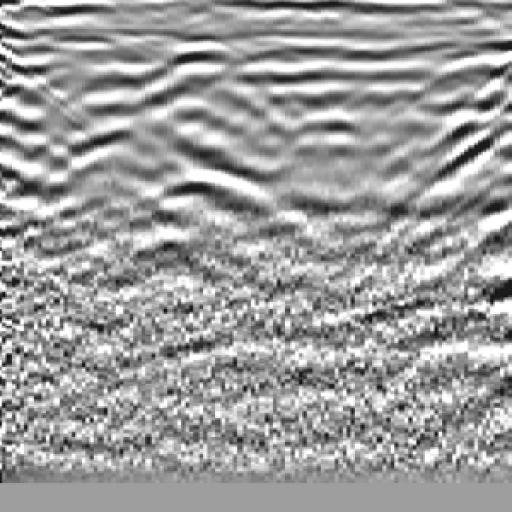metalic: (109, 122, 326, 297)
nonmetalic: (387, 31, 512, 312)
